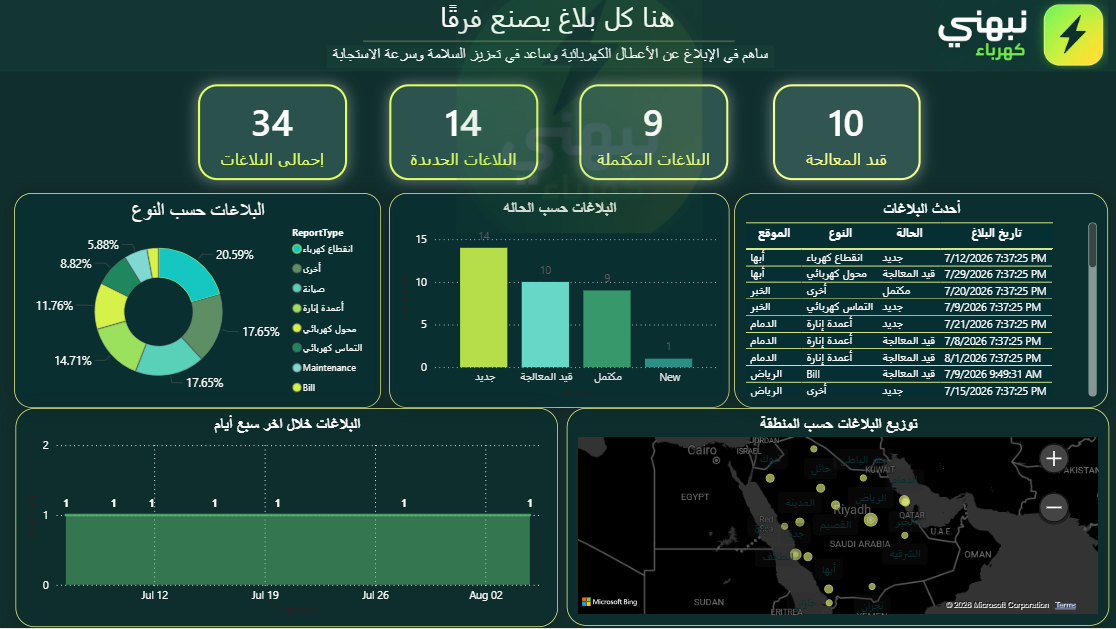

This screenshot's page, from the dashboard's own definition file:
{"tool":"powerbi","page":{"name":"Page 1","canvas":[1280,720],"ordinal":0},"visuals":[{"type":"shape","box":[0,0,1280.3,83.8],"z":0},{"type":"textbox","title":"ساهم في الإبلاغ عن الأعطال الكهربائية وساعد في تعزيز السلامة وسرعة الاستجابة","box":[375,54.9,511,28.8],"z":1000},{"type":"card","fields":{"Values":["CountNonNull(Reports.Id)"]},"box":[228,98.9,170.3,109.9],"z":2000},{"type":"card","fields":{"Values":["CountNonNull(Reports.Id)"]},"box":[446.4,98.9,170.3,109.9],"z":3000},{"type":"card","fields":{"Values":["CountNonNull(Reports.Id)"]},"box":[664.9,98.9,170.3,109.9],"z":4000},{"type":"card","fields":{"Values":["CountNonNull(Reports.Id)"]},"box":[886,98.9,169,109.9],"z":5000},{"type":"shape","box":[417.6,0,424.5,98.9],"z":6000},{"type":"donutChart","title":"البلاغات حسب النوع","fields":{"Category":["Reports.ReportType"],"Y":["CountNonNull(Reports.Id)"]},"box":[19.2,222.5,419,245.9],"z":7000},{"type":"clusteredColumnChart","title":"البلاغات حسب الحاله","fields":{"Category":["Reports.Status"],"Y":["CountNonNull(Reports.Id)"]},"box":[446.4,222.5,388.8,245.9],"z":8000},{"type":"tableEx","title":"أحدث البلاغات","fields":{"Values":["Reports.Location","Reports.ReportType","Reports.Status","Reports.CreatedAt"]},"box":[842.1,222.5,427.2,245.9],"z":9000},{"type":"image","box":[1071.5,0,197.8,83.8],"z":10000},{"type":"lineChart","title":"البلاغات خلال اخر سبع أيام","fields":{"Y":["CountNonNull(Reports.Id)"],"Category":["Reports.CreatedAt"]},"box":[20,468.6,620,250],"z":11000},{"type":"map","title":"توزيع البلاغات حسب المنطقة","fields":{"Category":["Reports.Location"],"Size":["CountNonNull(Reports.Id)"]},"box":[650,468.6,620,249],"z":12000},{"type":"image","box":[438.2,0,421.7,269.2],"z":13000}]}

Visuals, with their boxes in screenshot pixels (x1, y1, x2, y2), scaled from the page's 1280x720 canvas onto the 1116x629 screenshot:
shape: x1=0 y1=0 x2=1115 y2=73
"ساهم في الإبلاغ عن الأعطال الكهربائية وساعد في تعزيز السلامة وسرعة الاستجابة" textbox: x1=327 y1=48 x2=772 y2=73
card - CountNonNull(Reports.Id): x1=199 y1=86 x2=347 y2=182
card - CountNonNull(Reports.Id): x1=389 y1=86 x2=538 y2=182
card - CountNonNull(Reports.Id): x1=580 y1=86 x2=728 y2=182
card - CountNonNull(Reports.Id): x1=772 y1=86 x2=920 y2=182
shape: x1=364 y1=0 x2=734 y2=86
"البلاغات حسب النوع" donutChart: x1=17 y1=194 x2=382 y2=409
"البلاغات حسب الحاله" clusteredColumnChart: x1=389 y1=194 x2=728 y2=409
"أحدث البلاغات" tableEx: x1=734 y1=194 x2=1107 y2=409
image: x1=934 y1=0 x2=1107 y2=73
"البلاغات خلال اخر سبع أيام" lineChart: x1=17 y1=409 x2=558 y2=628
"توزيع البلاغات حسب المنطقة" map: x1=567 y1=409 x2=1107 y2=627
image: x1=382 y1=0 x2=750 y2=235
